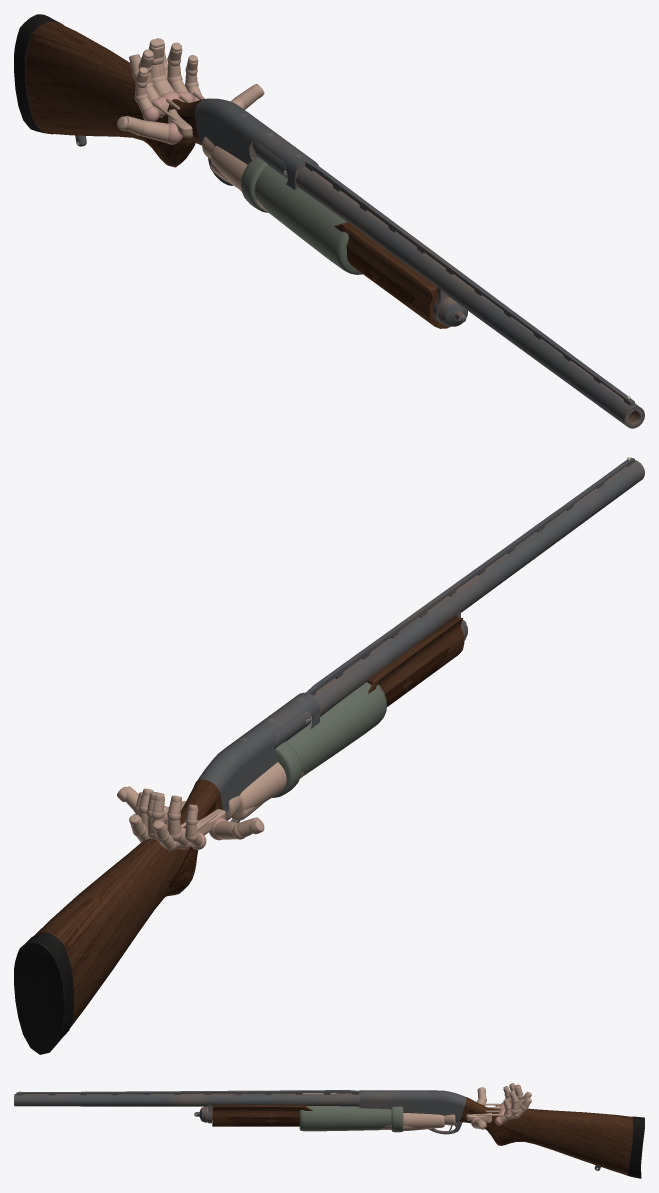
File: shotgun.glb
3 renders of one model, top to bottom at view 1: azimuth 30°, elevation 25°; view 2: azimuth 150°, elevation 25°; view 3: azimuth 270°, elevation 25°, orthographic. The views are drawn at different scales.
Visible parts, largest first — view 1: shotgun_body, sleeveL, pump, muscleL, cuffL; view 2: shotgun_body, sleeveL, pump, muscleL, cuffL; view 3: shotgun_body, sleeveL, pump, muscleR, cuffL.
Part boxes in pixels (left/top/right/bottom): shotgun_body: left=14, top=14, right=644, bottom=428; sleeveL: left=254, top=166, right=362, bottom=274; pump: left=334, top=222, right=450, bottom=328; muscleL: left=210, top=146, right=269, bottom=213; cuffL: left=241, top=156, right=269, bottom=212; shotgun_body: left=14, top=457, right=644, bottom=1054; sleeveL: left=286, top=682, right=386, bottom=775; pump: left=367, top=616, right=464, bottom=706; muscleL: left=236, top=762, right=305, bottom=813; cuffL: left=272, top=741, right=301, bottom=797; shotgun_body: left=14, top=1090, right=644, bottom=1178; sleeveL: left=299, top=1106, right=391, bottom=1131; pump: left=212, top=1105, right=312, bottom=1126; muscleR: left=381, top=1113, right=444, bottom=1129; cuffL: left=391, top=1106, right=403, bottom=1132.
Size of the model in its own units: 0.1726 by 0.2011 by 1.23.
Materials: 6 (2 with a texture image).
